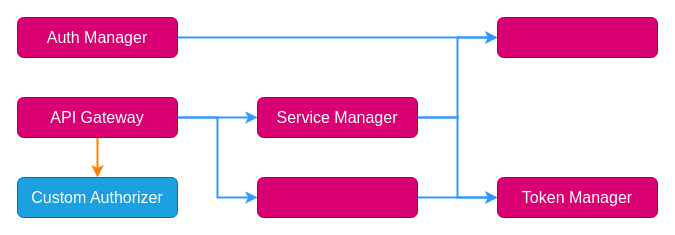
This 675x235 diagram has some shape labels left out. Here are the shapes that lost their labels. From the top down, the centre of each, then its label:
At pixel 577 37: "User Manager".
At pixel 337 197: "Tenant Manager".
